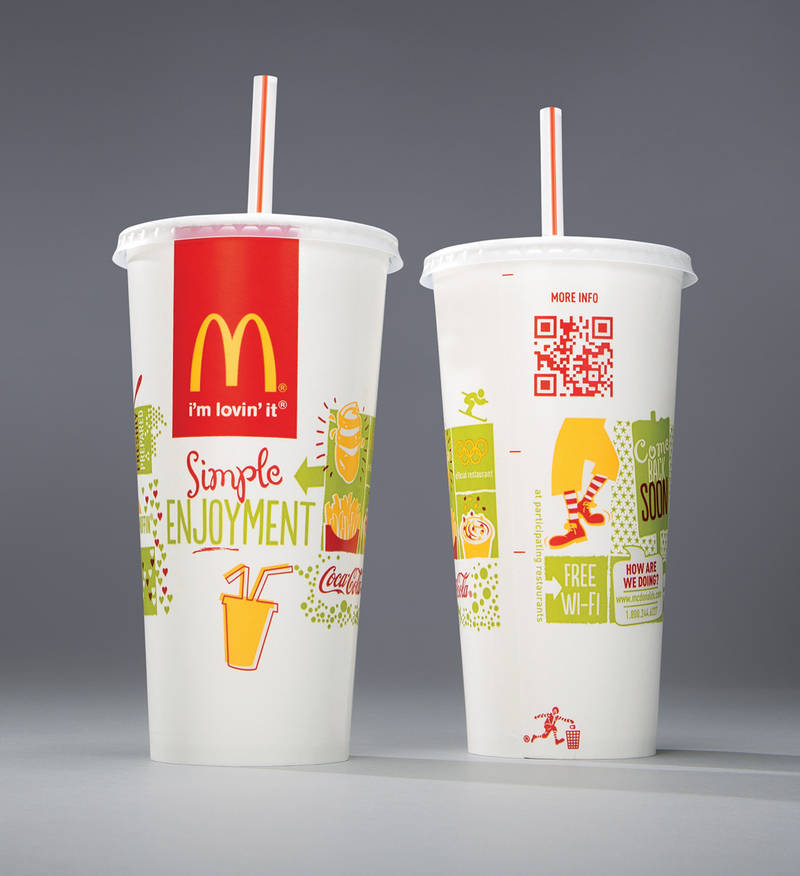mcdonalds: (184, 305, 282, 399)
